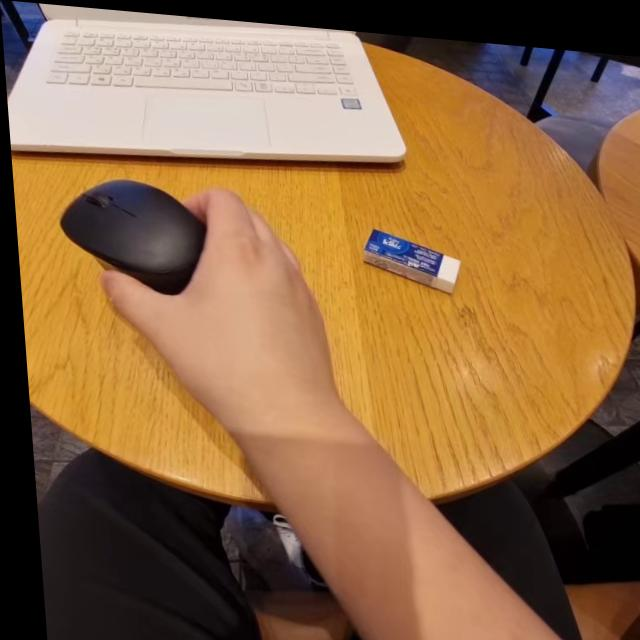eraser: (357, 214, 464, 297)
grab_mouse: (54, 161, 327, 419)
